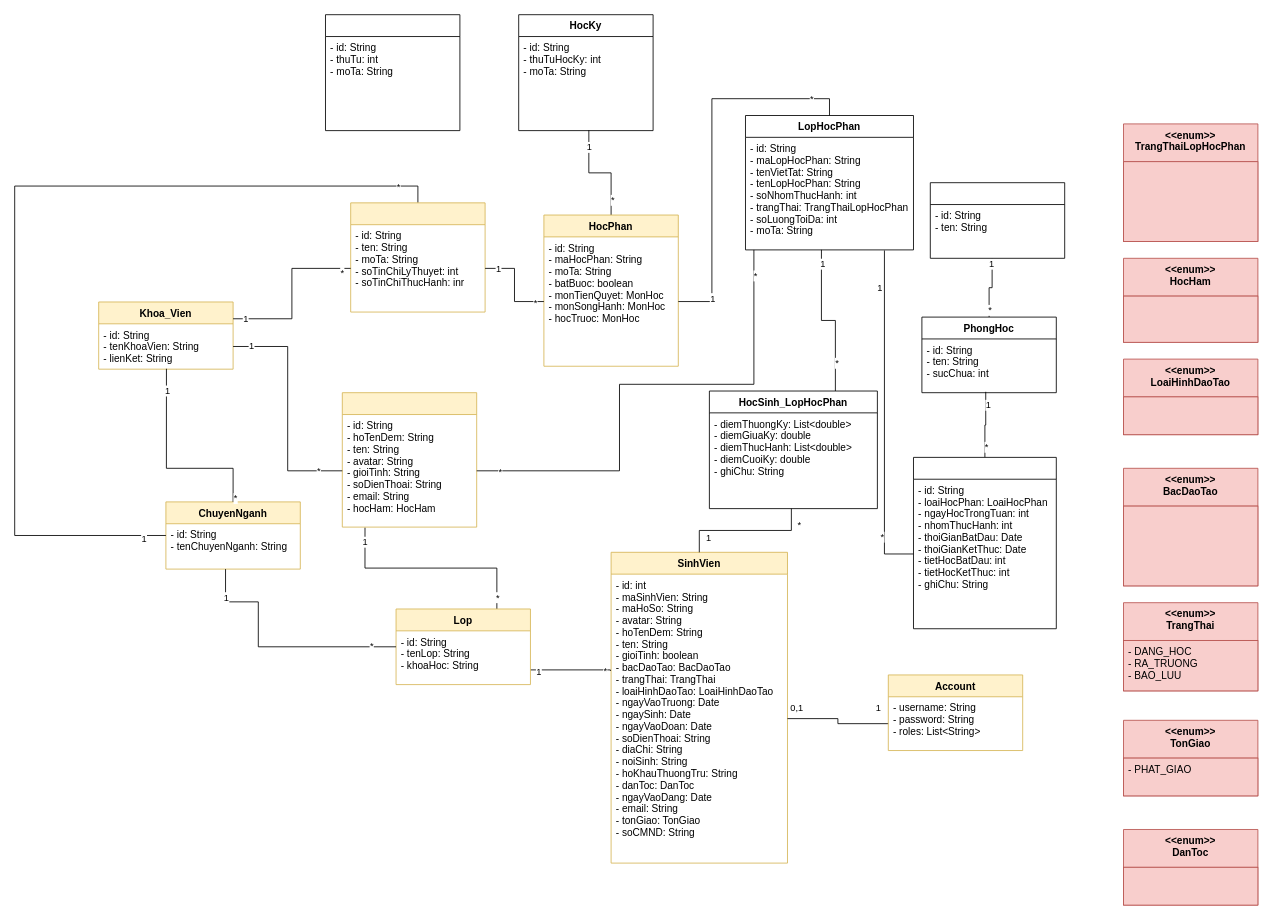
Some shapes in this 1273 by 922 pixel diagram are drawn without their labels. The shapes that lost their labels are listed below. From the top down, each one's box as (x1, y1, x2, y2) in pixels, then its label:
(325, 14, 460, 131): NamHoc
(929, 182, 1065, 258): DayNha
(1123, 161, 1258, 242): CHO_SV_DANG_KY DANG_LEN_KE_HOACH CHAP_NHAN_MO_LOP HUY_LOP_HOC_PHAN DA_KHOA
(350, 202, 485, 312): MonHoc
(1123, 295, 1258, 342): THAC_SI TIEN_SI
(1123, 396, 1258, 435): - TIEN_TIEN - DAI_TRA
(341, 392, 477, 527): GiangVien
(913, 457, 1056, 629): LichHoc
(1123, 505, 1258, 586): - DAI_HOC - CAO_DANG - THAC_SI
(1123, 866, 1258, 905): - KINH
